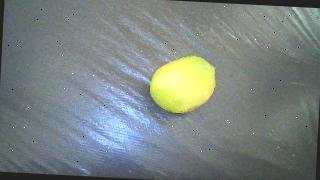DESECHO: (149, 54, 217, 115)
